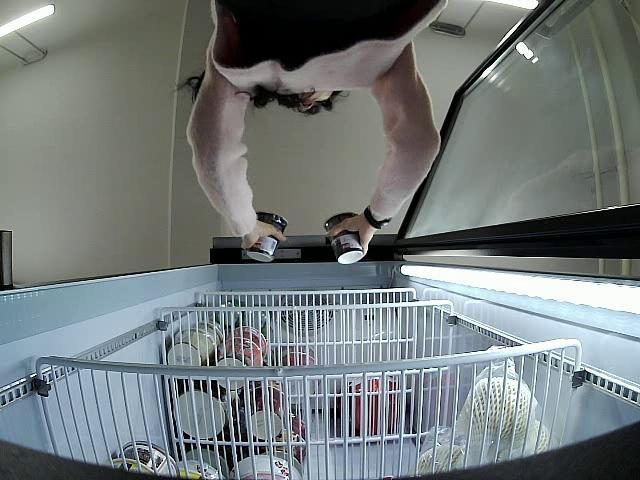08_buldak_S: (324, 211, 364, 266), (246, 213, 287, 260)
